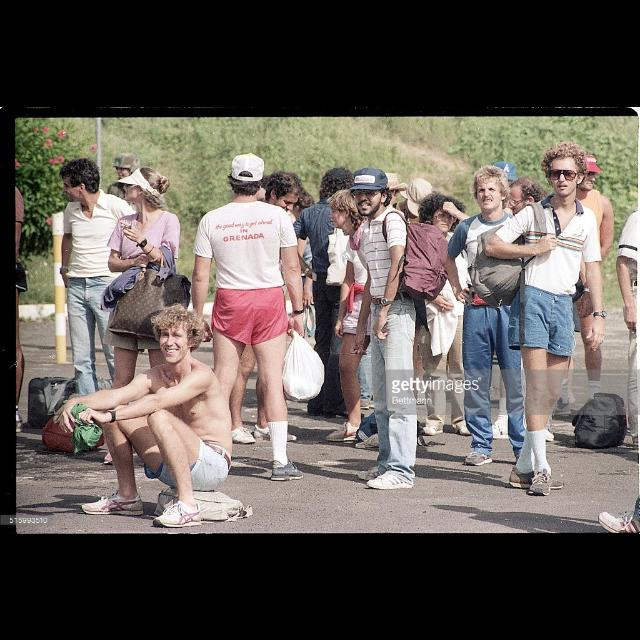head: (159, 308, 197, 364), (548, 146, 586, 198), (228, 152, 264, 198), (474, 167, 510, 211), (62, 160, 98, 202), (266, 171, 302, 213), (566, 148, 598, 192), (329, 188, 363, 228), (125, 168, 164, 202), (508, 176, 540, 217), (353, 180, 389, 216), (429, 199, 457, 233), (325, 166, 353, 198), (406, 180, 432, 210), (116, 154, 140, 180), (378, 179, 400, 205)
person: (466, 138, 610, 498), (188, 152, 328, 484), (59, 302, 254, 530), (347, 165, 451, 490), (443, 162, 547, 468), (98, 165, 195, 467), (276, 164, 376, 420), (59, 155, 148, 439), (225, 166, 313, 447), (326, 187, 406, 446), (483, 175, 557, 447), (546, 146, 618, 414), (412, 191, 486, 439), (392, 171, 458, 433), (356, 167, 419, 435), (100, 150, 156, 340)
